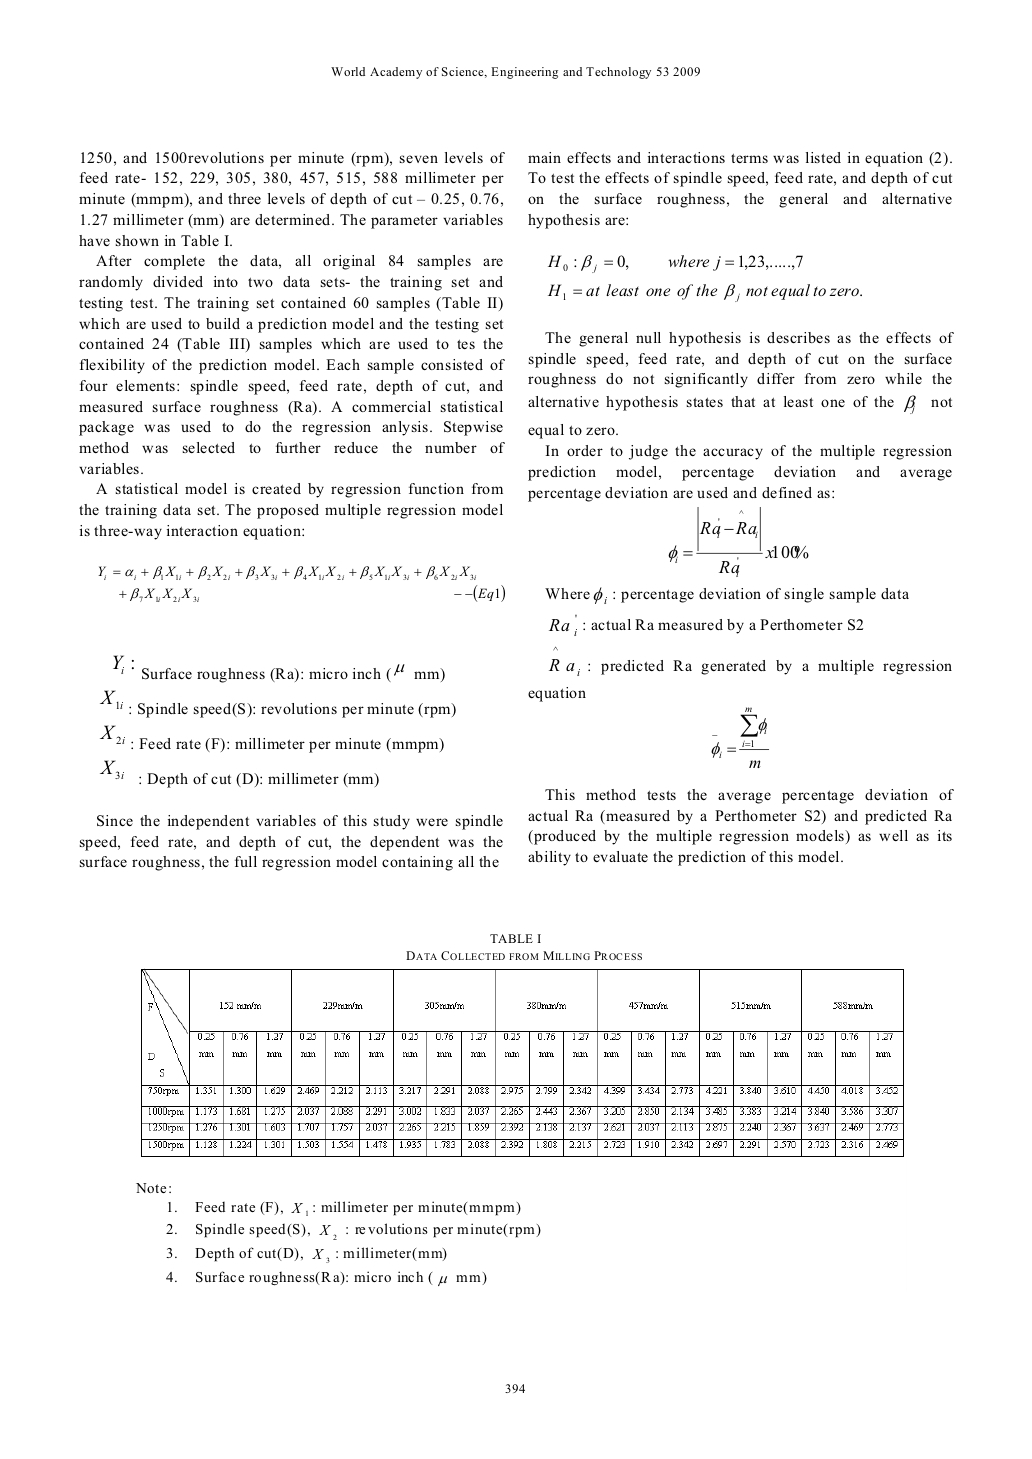Table: (141, 967, 902, 1156)
formula: (668, 505, 808, 577), (120, 584, 504, 602), (547, 282, 861, 303), (98, 565, 476, 580), (547, 255, 802, 273), (711, 707, 770, 768)
